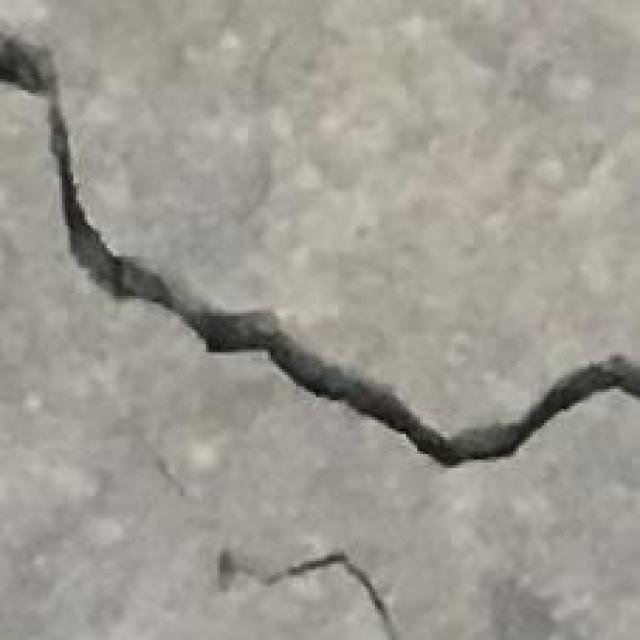diagonal crack: (0, 39, 640, 471), (259, 550, 400, 640)
